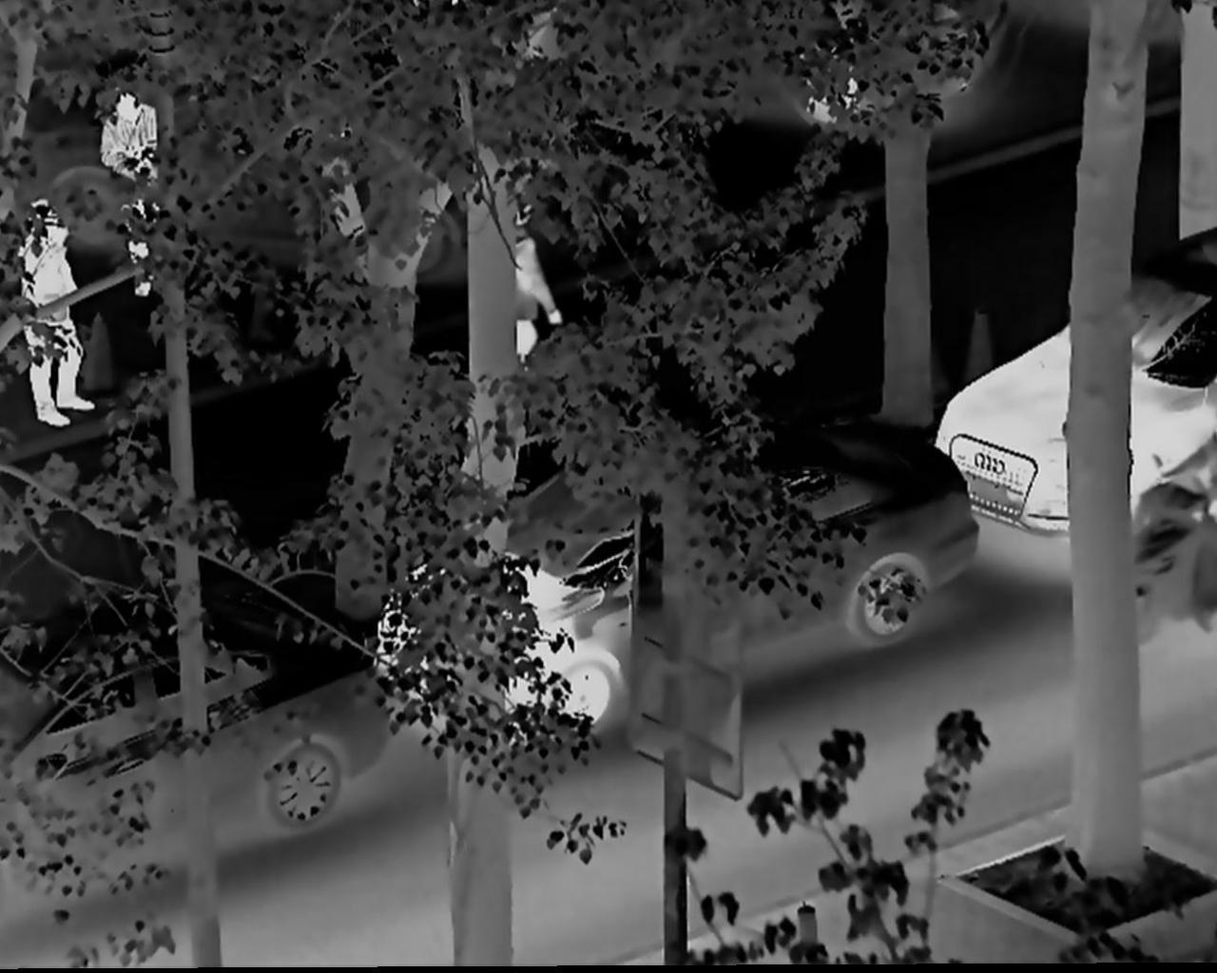person: (11, 199, 97, 433), (101, 88, 186, 309), (501, 214, 567, 378)
